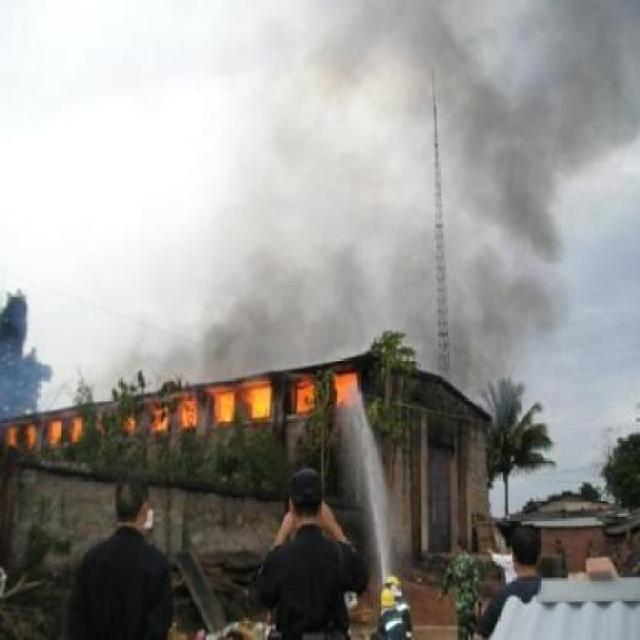Fire: (6, 355, 369, 450)
